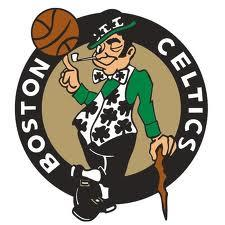Boston_Celtics: (23, 1, 210, 204)
